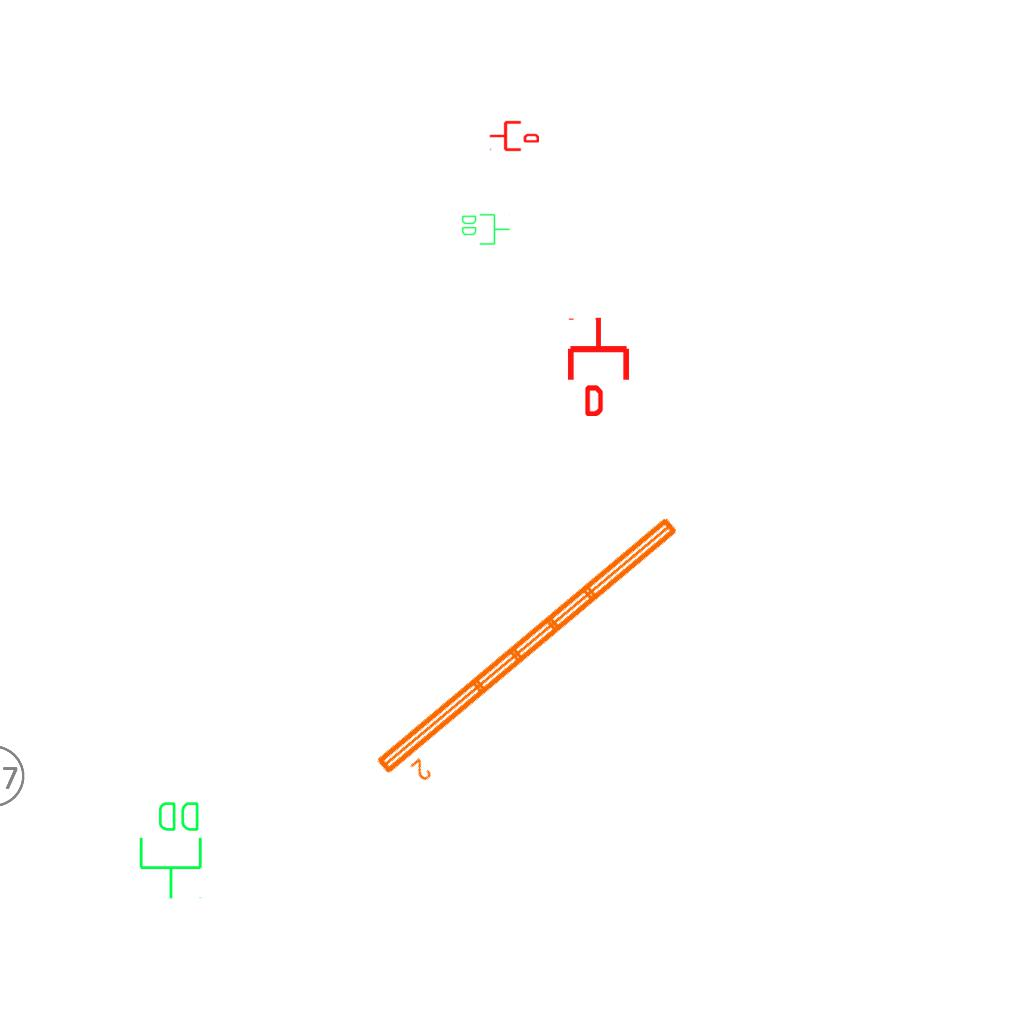Ambulanz_Pendelleuchte_LED: (369, 509, 702, 801)
Datenanschluss_einfach: (564, 316, 633, 416), (489, 119, 539, 153)
Datenanschluss_zweifach: (137, 798, 206, 901), (460, 212, 511, 246)
